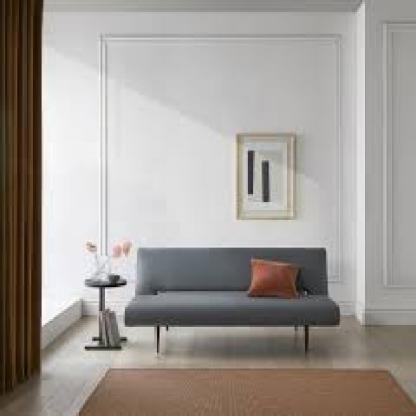sofa: (127, 248, 343, 350)
